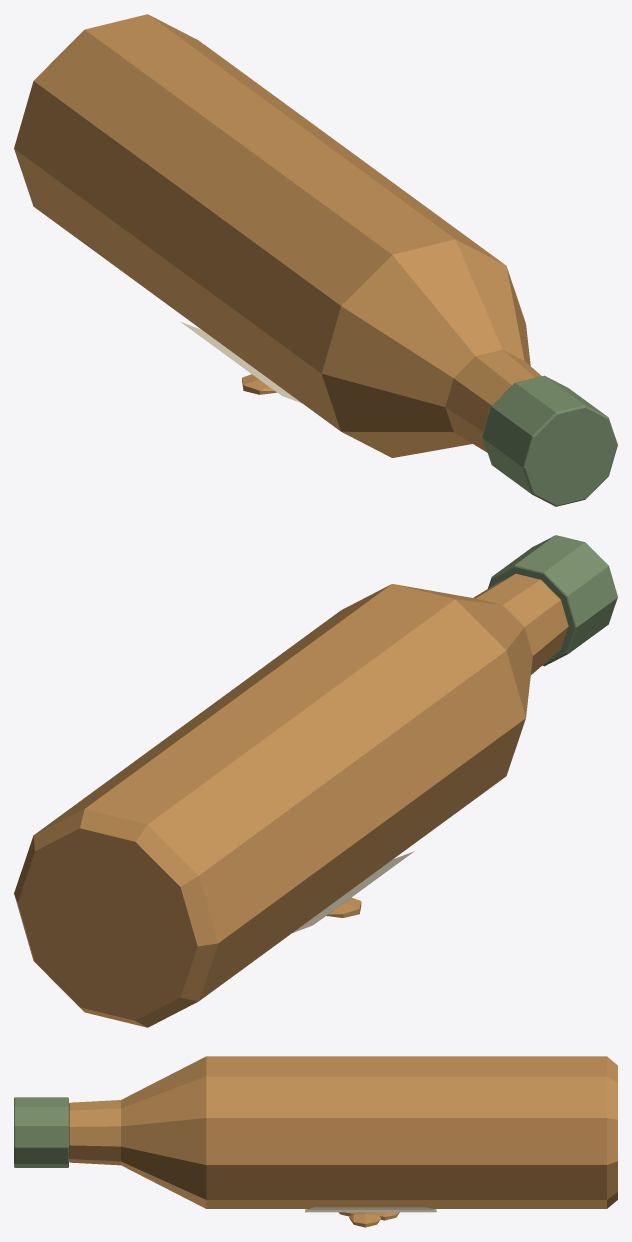
Rendered from ginger_ale.glb.
The picture shows the model from 3 angles, top to bottom: view 1: azimuth 30°, elevation 25°; view 2: azimuth 150°, elevation 25°; view 3: azimuth 270°, elevation 25°; orthographic projection. The views are drawn at different scales.
Parts seen in each view (by area): view 1: ginger_ale; view 2: ginger_ale; view 3: ginger_ale.
Part boxes in pixels (x1,y1,x2,y2): ginger_ale: (14,14,617,506); ginger_ale: (14,535,617,1027); ginger_ale: (14,1056,617,1227).
Size of the model in its own units: 0.056 by 0.0582 by 0.22.
